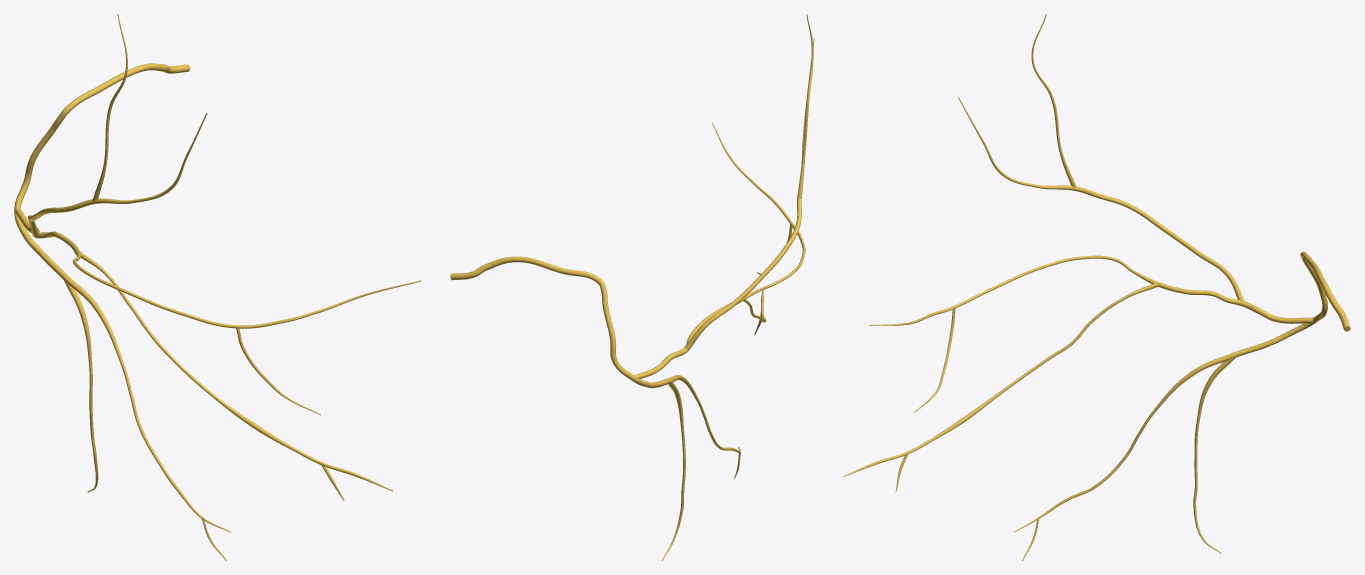
The model's file is Facial_nerve_VII_right.glb.
3 renders of one model, left to right at view 1: azimuth 30°, elevation 25°; view 2: azimuth 150°, elevation 25°; view 3: azimuth 270°, elevation 25°, orthographic. The views are drawn at different scales.
Parts seen in each view (by area): view 1: Facial_nerve_(VII).r_BezierCurve.528; view 2: Facial_nerve_(VII).r_BezierCurve.528; view 3: Facial_nerve_(VII).r_BezierCurve.528.
Boxes of the visible parts, x1,y1,x2,y2 form: Facial_nerve_(VII).r_BezierCurve.528: (14,14,421,560); Facial_nerve_(VII).r_BezierCurve.528: (450,14,814,560); Facial_nerve_(VII).r_BezierCurve.528: (843,14,1350,560).
Bounding box in the file's own units: 0.0566 × 0.1161 × 0.1046.
